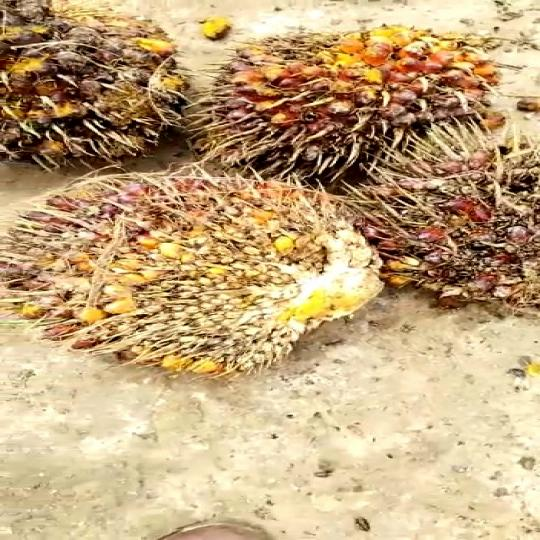masak: (0, 167, 394, 377), (191, 19, 509, 197)
